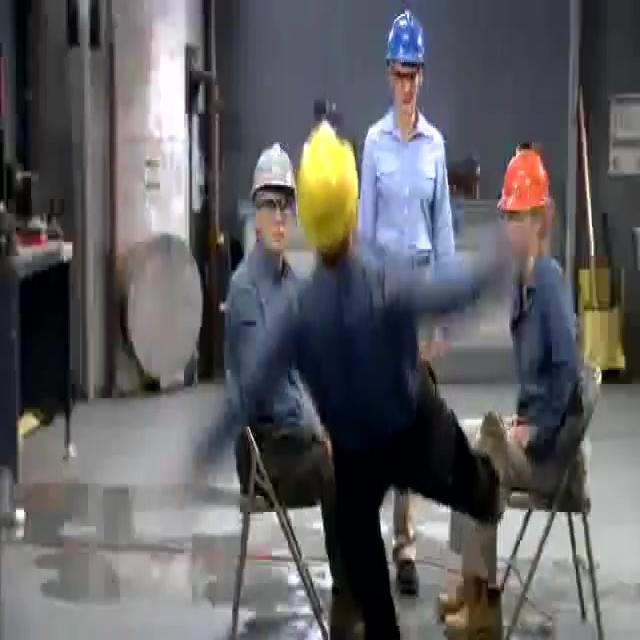Reflective-Jacket: (495, 250, 596, 474)
Safety-Helmet: (289, 112, 369, 272), (491, 135, 558, 229), (244, 133, 297, 210), (380, 5, 433, 75)
